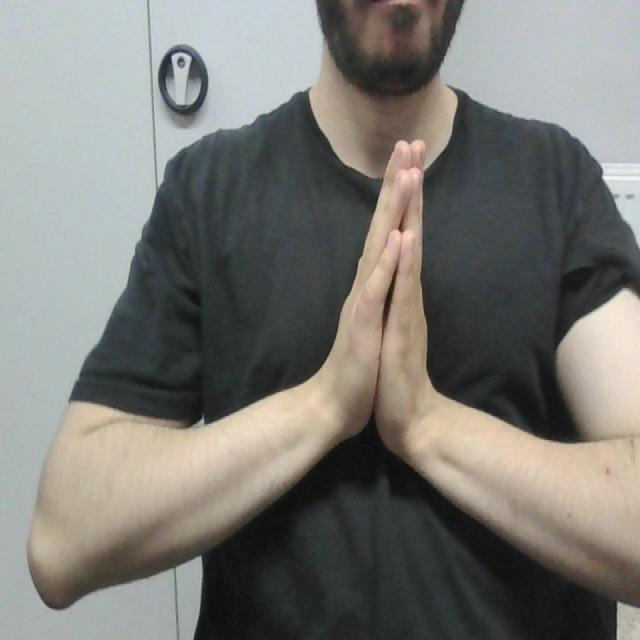Ozur-Dilemek: (331, 116, 456, 464)
